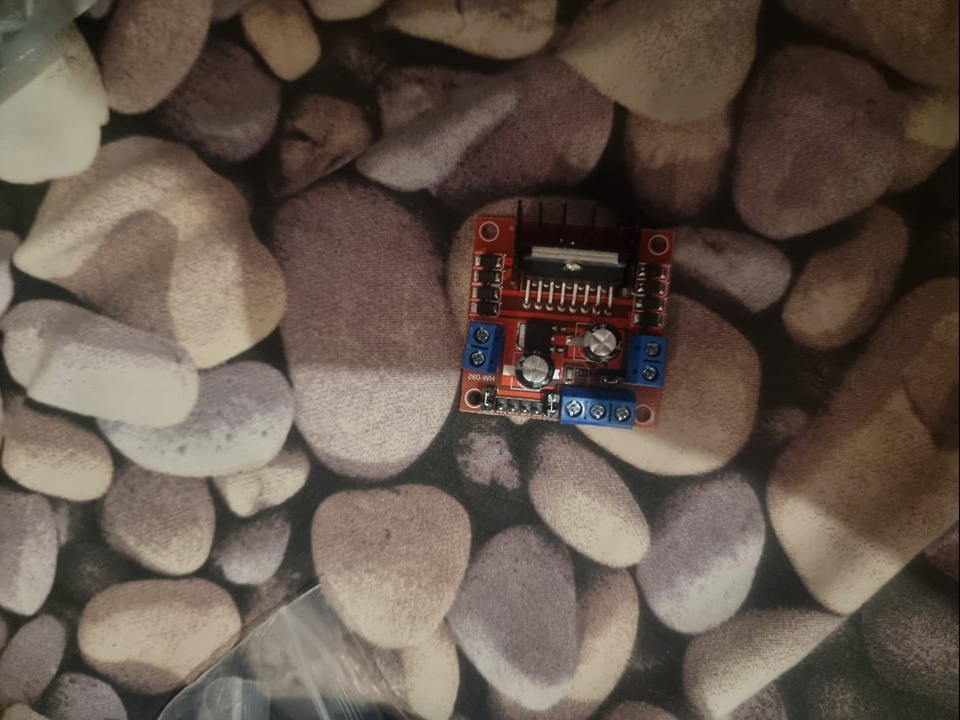MOTOR: (460, 213, 683, 431)
